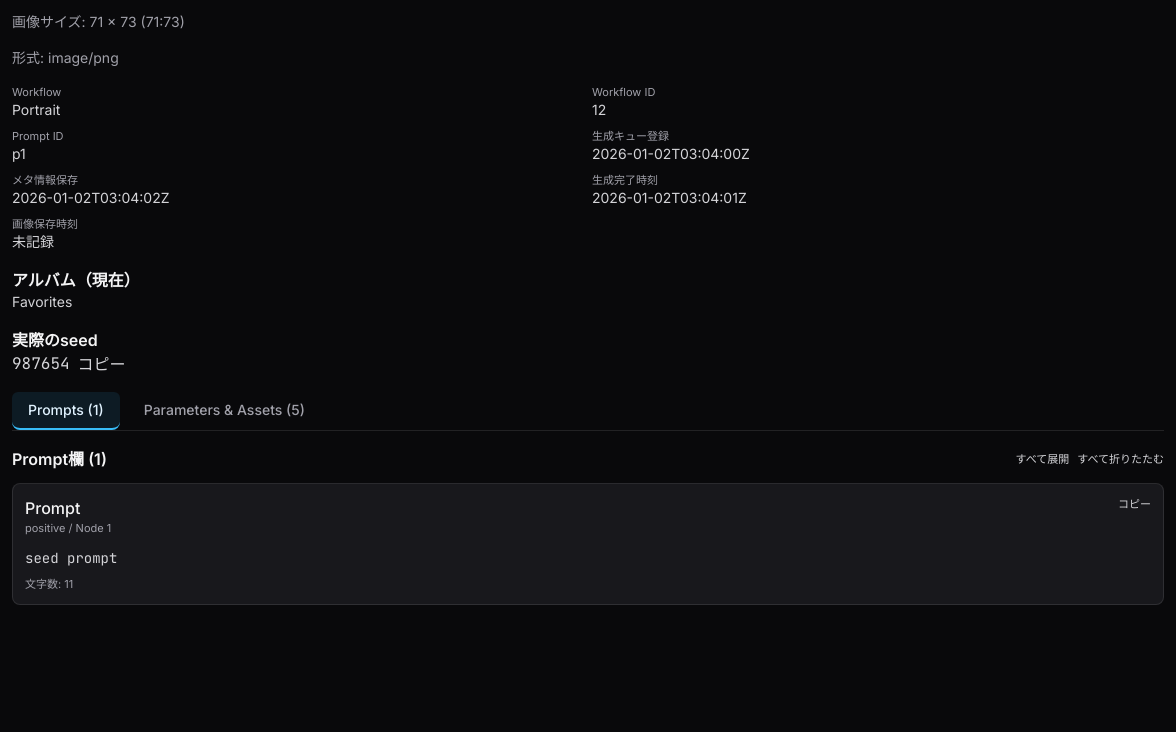
Test: GenerationMetadataPanel › shows workflow facts and switches to counted parameter metadata
Check: the text "Portrait" is shown, box top-left (12, 101), bottom-right (60, 118)
Check: the text "Workflow ID" is shown, box top-left (592, 85), bottom-right (655, 99)
What coordinates should you click on to do the following:
click the tab "Parameters & Assets (5)"
I would click on:
 (224, 411)
Its box is top-left (128, 392), bottom-right (321, 430).
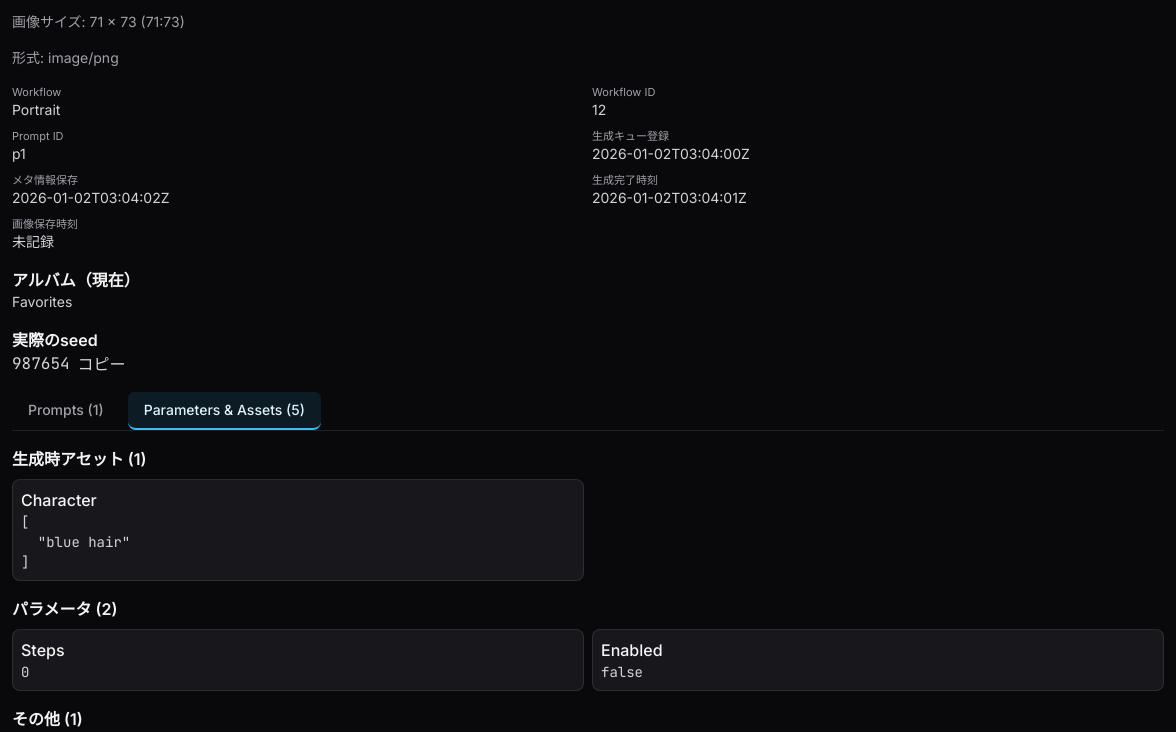
Check: the heading "パラメータ (2)" is shown, box top-left (12, 599), bottom-right (118, 619)
Check: the heading "その他 (1)" is shown, box top-left (12, 709), bottom-right (83, 729)
Check: the heading "Steps" is shown, box top-left (21, 640), bottom-right (64, 660)
